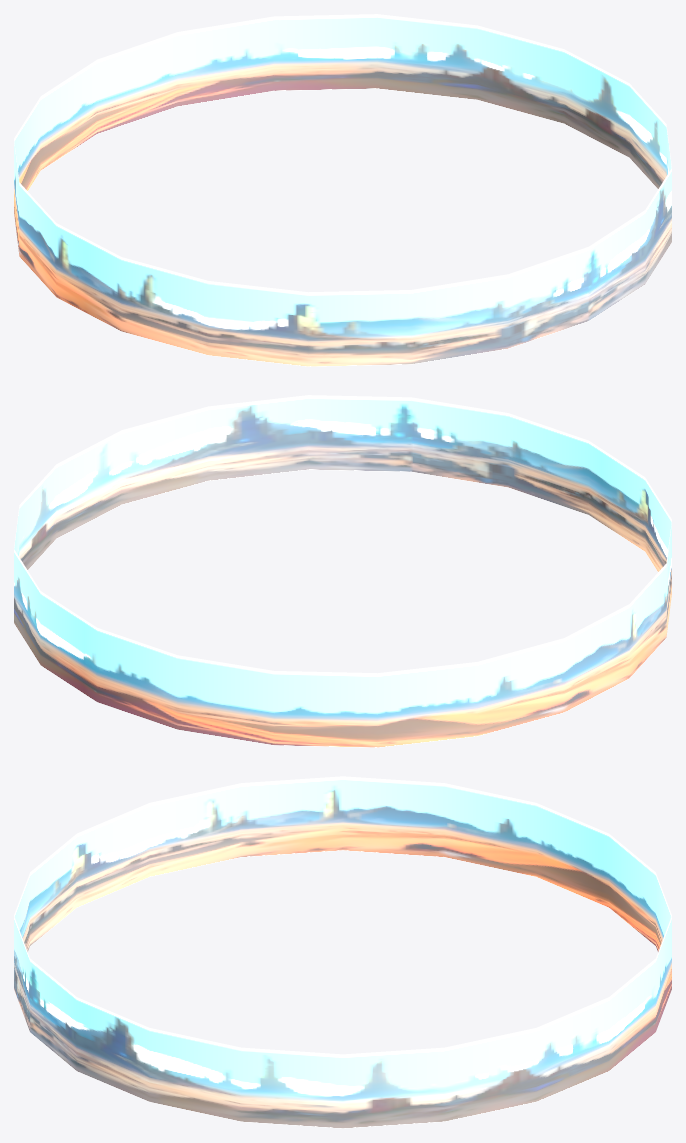
File: SM_Background.fbx
The picture shows the model from 3 angles, top to bottom: view 1: azimuth 30°, elevation 25°; view 2: azimuth 150°, elevation 25°; view 3: azimuth 270°, elevation 25°; orthographic projection.
Parts seen in each view (by area): view 1: SM_Background; view 2: SM_Background; view 3: SM_Background.
Boxes of the visible parts, box(x1,y1,x2,y2) form: SM_Background: box(14, 14, 671, 366); SM_Background: box(14, 395, 671, 747); SM_Background: box(14, 776, 671, 1128).
Size of the model in its own units: 9467 by 1180 by 9467.
